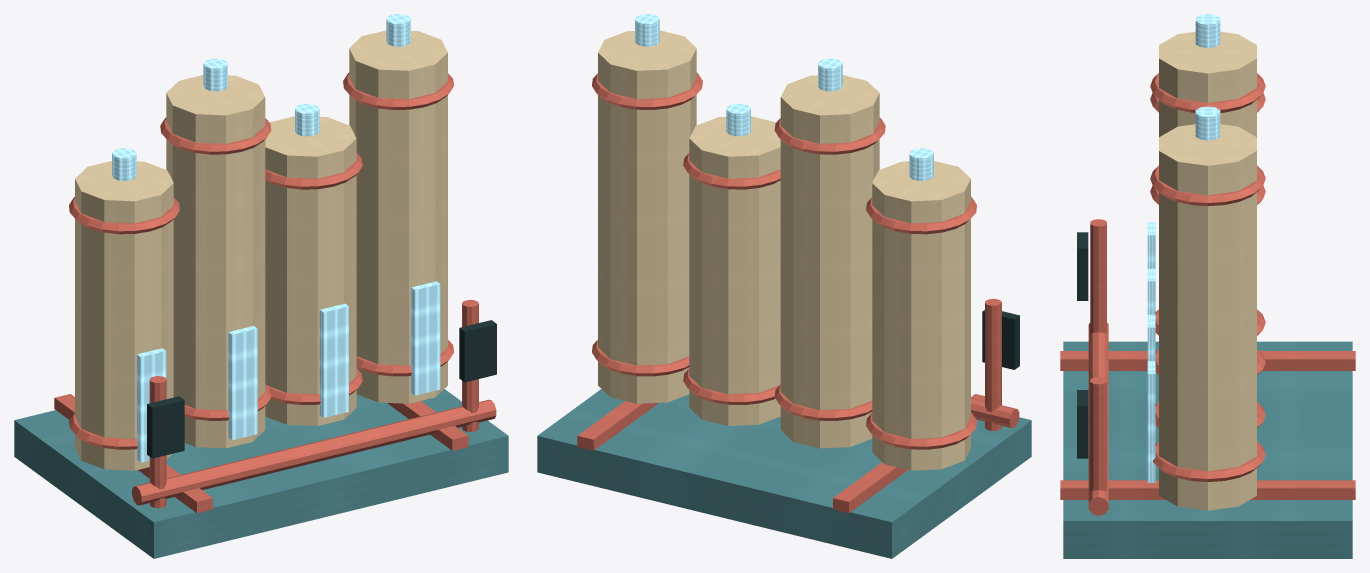
The model's file is atlas100-s075-a02.lod1.glb.
3 views of the same model, side by side, from view 1: azimuth 30°, elevation 25°; view 2: azimuth 150°, elevation 25°; view 3: azimuth 270°, elevation 25° (orthographic). The views are drawn at different scales.
Parts seen in each view (by area): view 1: atlas100-s075-a02:part-000, atlas100-s075-a02:part-008, atlas100-s075-a02:part-018, atlas100-s075-a02:part-003, atlas100-s075-a02:part-013, atlas100-s075-a02:part-027, atlas100-s075-a02:part-012, atlas100-s075-a02:part-022, atlas100-s075-a02:part-017, atlas100-s075-a02:part-024, atlas100-s075-a02:part-026, atlas100-s075-a02:part-007 (+16 smaller); view 2: atlas100-s075-a02:part-000, atlas100-s075-a02:part-008, atlas100-s075-a02:part-018, atlas100-s075-a02:part-003, atlas100-s075-a02:part-013, atlas100-s075-a02:part-023, atlas100-s075-a02:part-001, atlas100-s075-a02:part-002, atlas100-s075-a02:part-004, atlas100-s075-a02:part-010, atlas100-s075-a02:part-005, atlas100-s075-a02:part-020 (+10 smaller); view 3: atlas100-s075-a02:part-000, atlas100-s075-a02:part-018, atlas100-s075-a02:part-008, atlas100-s075-a02:part-002, atlas100-s075-a02:part-001, atlas100-s075-a02:part-027, atlas100-s075-a02:part-023, atlas100-s075-a02:part-025, atlas100-s075-a02:part-020, atlas100-s075-a02:part-019, atlas100-s075-a02:part-010, atlas100-s075-a02:part-022 (+7 smaller).
Boxes of the visible parts, x1,y1,x2,y2 form: atlas100-s075-a02:part-000: (14, 389, 508, 558); atlas100-s075-a02:part-008: (166, 75, 265, 448); atlas100-s075-a02:part-018: (349, 30, 447, 403); atlas100-s075-a02:part-003: (75, 161, 173, 470); atlas100-s075-a02:part-013: (265, 116, 356, 425); atlas100-s075-a02:part-027: (132, 399, 496, 505); atlas100-s075-a02:part-012: (228, 326, 257, 440); atlas100-s075-a02:part-022: (411, 281, 440, 395); atlas100-s075-a02:part-017: (319, 303, 348, 417); atlas100-s075-a02:part-024: (147, 396, 184, 458); atlas100-s075-a02:part-026: (459, 320, 496, 382); atlas100-s075-a02:part-007: (137, 348, 166, 462); atlas100-s075-a02:part-000: (537, 389, 1031, 558); atlas100-s075-a02:part-008: (780, 75, 879, 448); atlas100-s075-a02:part-018: (598, 30, 696, 403); atlas100-s075-a02:part-003: (872, 161, 970, 470); atlas100-s075-a02:part-013: (689, 116, 780, 425); atlas100-s075-a02:part-023: (985, 298, 1001, 430); atlas100-s075-a02:part-001: (833, 394, 984, 512); atlas100-s075-a02:part-002: (577, 401, 658, 450); atlas100-s075-a02:part-004: (866, 412, 976, 449); atlas100-s075-a02:part-010: (774, 117, 885, 154); atlas100-s075-a02:part-005: (866, 197, 976, 234); atlas100-s075-a02:part-020: (592, 72, 702, 109); atlas100-s075-a02:part-000: (1063, 341, 1352, 558); atlas100-s075-a02:part-018: (1159, 124, 1256, 510); atlas100-s075-a02:part-008: (1159, 31, 1256, 137); atlas100-s075-a02:part-002: (1060, 480, 1355, 499); atlas100-s075-a02:part-001: (1060, 351, 1355, 370); atlas100-s075-a02:part-027: (1088, 322, 1108, 515); atlas100-s075-a02:part-023: (1090, 219, 1106, 333); atlas100-s075-a02:part-025: (1090, 377, 1106, 491); atlas100-s075-a02:part-020: (1150, 165, 1265, 206); atlas100-s075-a02:part-019: (1152, 441, 1265, 481); atlas100-s075-a02:part-010: (1150, 73, 1265, 112); atlas100-s075-a02:part-022: (1147, 361, 1155, 482).
Bounding box in the file's own units: 2.76 × 2.93 × 1.84.
5 materials, 5 textured.
